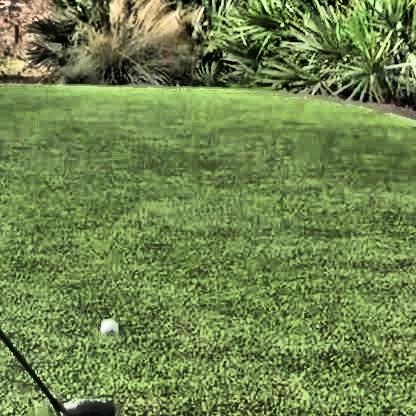golfball: (98, 315, 115, 335)
